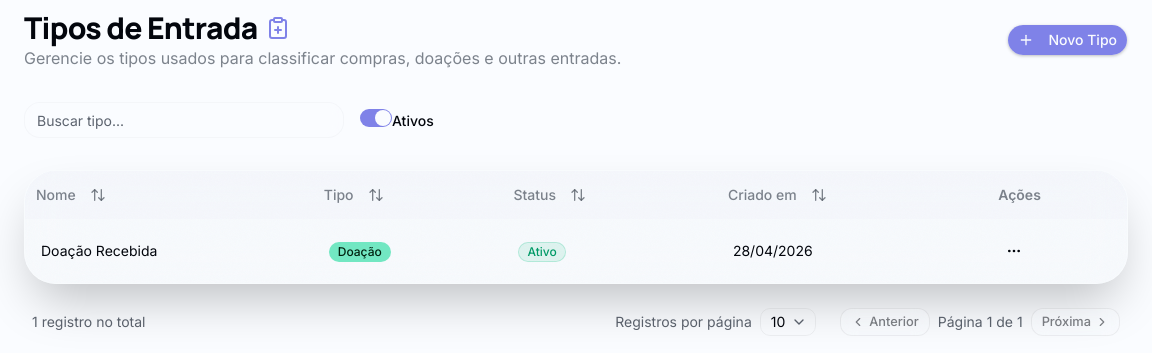
it: TiposEntradaPage › can clear filters
Type "Doação" into the field with placeholder "Buscar tipo...".
click(184, 120); type("Doação")  # box [24,102,344,138]
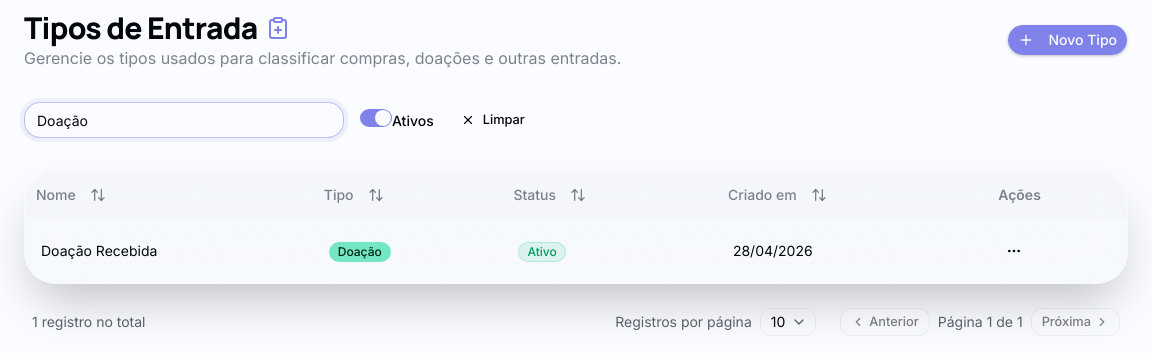
Expected: the button "Limpar" is shown
Click the button "Limpar".
click(493, 120)  # box [450,106,536,134]
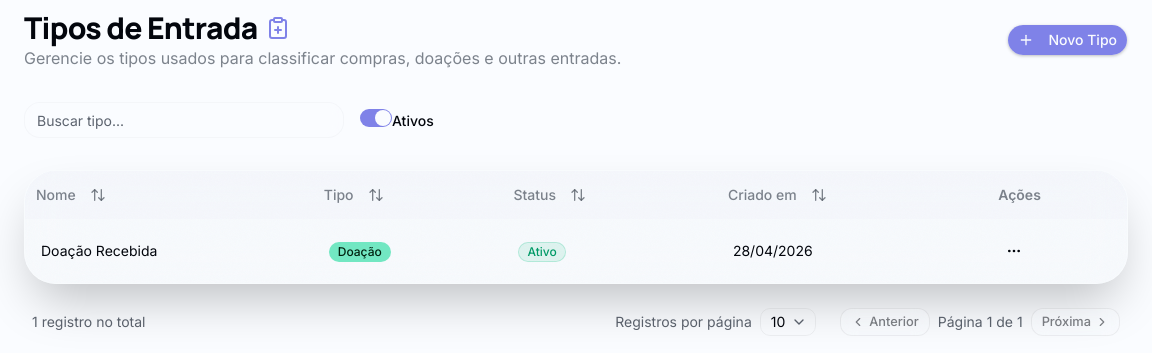
Expected: the field with placeholder "Buscar tipo..." is empty, [24,102,344,138]
